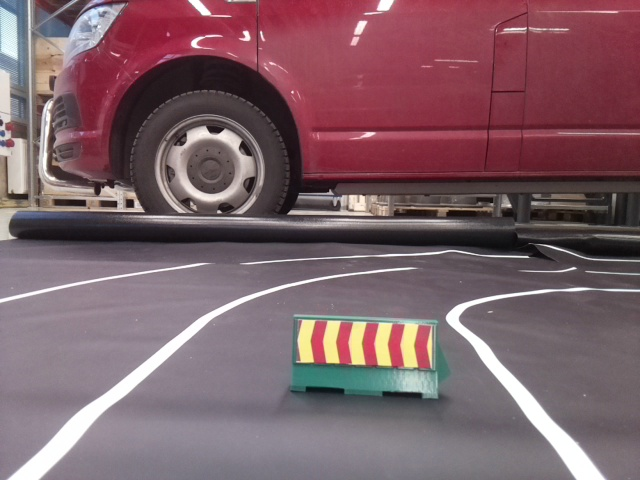ClosedRoadStand: (294, 314, 439, 397)
